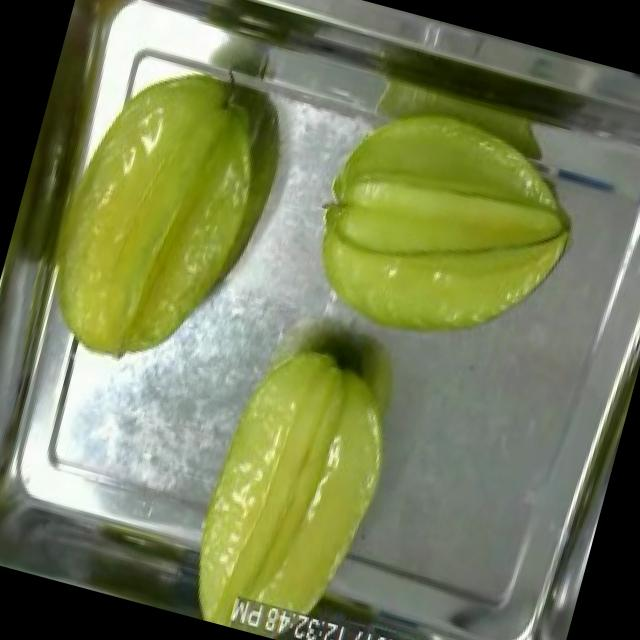fruit: (15, 34, 302, 390), (285, 73, 606, 380), (171, 318, 425, 640)
